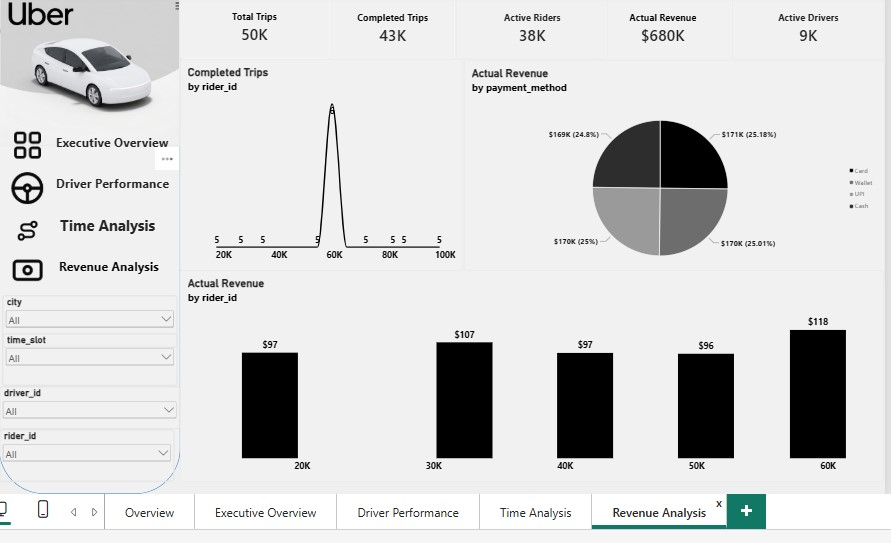

Layout of this report page (visuals, bound fields, positions):
{"tool":"powerbi","page":{"name":"Revenue Analysis","canvas":[1920,1080],"ordinal":4},"visuals":[{"type":"shape","box":[0,0,393.3,1080],"z":0},{"type":"image","box":[0,0,393.3,325.3],"z":1000},{"type":"image","box":[0,289.1,123.3,70.2],"z":2000},{"type":"image","box":[0,374.2,123.3,82.9],"z":3000},{"type":"image","box":[6.4,480.5,110.6,55.3],"z":4000},{"type":"textbox","box":[123.3,299.8,259.4,59.5],"z":5000},{"type":"textbox","box":[123.3,389.1,270,55.3],"z":6000},{"type":"textbox","box":[123.3,474.1,244.5,65.9],"z":7000},{"type":"image","box":[12.8,554.9,97.8,78.7],"z":8000},{"type":"textbox","box":[129.7,567.6,233.9,55.3],"z":9000},{"type":"cardVisual","fields":{"Data":["KPIs.Total Trips"]},"box":[393.3,0,323.1,136.1],"z":10000},{"type":"cardVisual","fields":{"Data":["KPIs.Completed Trips"]},"box":[716.5,0,274.3,136.1],"z":11000},{"type":"cardVisual","fields":{"Data":["KPIs.Actual Revenue"]},"box":[1288.3,0,301.9,136.1],"z":12000},{"type":"cardVisual","fields":{"Data":["KPIs.Active Drivers"]},"box":[1590.2,0,329.5,136.1],"z":13000},{"type":"cardVisual","fields":{"Data":["KPIs.Active Riders"]},"box":[990.7,0,329.5,136.1],"z":14000},{"type":"lineChart","fields":{"Category":["final_dataset.rider_id"],"Y":["KPIs.Completed Trips"]},"box":[393.3,136.1,614.4,459.2],"z":15000},{"type":"pieChart","fields":{"Category":["final_dataset.payment_method"],"Y":["KPIs.Actual Revenue"]},"box":[1007.7,138.2,912,484.7],"z":16000},{"type":"clusteredColumnChart","fields":{"Category":["final_dataset.rider_id"],"Y":["KPIs.Actual Revenue"]},"box":[393.3,595.3,1526.5,459.2],"z":17000},{"type":"slicer","fields":{"Values":["final_dataset.time_slot"]},"box":[6.4,731.3,380.6,114.8],"z":17001},{"type":"slicer","fields":{"Values":["final_dataset.city"]},"box":[6.4,648.4,380.6,114.8],"z":17002},{"type":"slicer","fields":{"Values":["final_dataset.driver_id"]},"box":[0,846.1,393.3,93.5],"z":17003},{"type":"slicer","fields":{"Values":["final_dataset.rider_id"]},"box":[0,939.7,380.6,114.8],"z":17004}]}

Visuals, with their boxes on the page's 1920x1080 design canvas (x1, y1, x2, y2). These are canvas units, not pixel positions in the 891x543 screenshot, which may show the page scaled, cropped or inside an application window:
shape: (x1=0, y1=0, x2=393, y2=1080)
image: (x1=0, y1=0, x2=393, y2=325)
image: (x1=0, y1=289, x2=123, y2=359)
image: (x1=0, y1=374, x2=123, y2=457)
image: (x1=6, y1=480, x2=117, y2=536)
textbox: (x1=123, y1=300, x2=383, y2=359)
textbox: (x1=123, y1=389, x2=393, y2=444)
textbox: (x1=123, y1=474, x2=368, y2=540)
image: (x1=13, y1=555, x2=111, y2=634)
textbox: (x1=130, y1=568, x2=364, y2=623)
cardVisual - KPIs.Total Trips: (x1=393, y1=0, x2=716, y2=136)
cardVisual - KPIs.Completed Trips: (x1=716, y1=0, x2=991, y2=136)
cardVisual - KPIs.Actual Revenue: (x1=1288, y1=0, x2=1590, y2=136)
cardVisual - KPIs.Active Drivers: (x1=1590, y1=0, x2=1920, y2=136)
cardVisual - KPIs.Active Riders: (x1=991, y1=0, x2=1320, y2=136)
lineChart - final_dataset.rider_id x KPIs.Completed Trips: (x1=393, y1=136, x2=1008, y2=595)
pieChart - final_dataset.payment_method x KPIs.Actual Revenue: (x1=1008, y1=138, x2=1920, y2=623)
clusteredColumnChart - final_dataset.rider_id x KPIs.Actual Revenue: (x1=393, y1=595, x2=1920, y2=1054)
slicer - final_dataset.time_slot: (x1=6, y1=731, x2=387, y2=846)
slicer - final_dataset.city: (x1=6, y1=648, x2=387, y2=763)
slicer - final_dataset.driver_id: (x1=0, y1=846, x2=393, y2=940)
slicer - final_dataset.rider_id: (x1=0, y1=940, x2=381, y2=1054)
